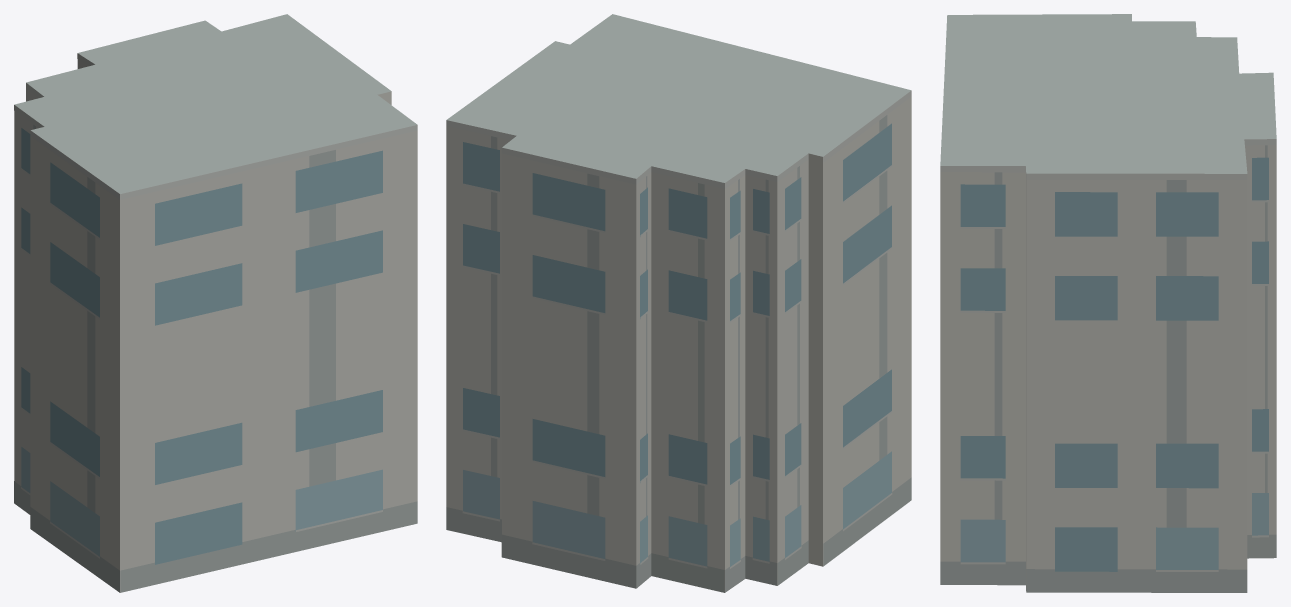
File: survey-upis-32805918.glb
The picture shows the model from 3 angles, left to right: view 1: azimuth 30°, elevation 25°; view 2: azimuth 150°, elevation 25°; view 3: azimuth 270°, elevation 25°; orthographic projection. The views are drawn at different scales.
Parts seen in each view (by area): view 1: survey-upis-32805918.tmp; view 2: survey-upis-32805918.tmp; view 3: survey-upis-32805918.tmp.
Boxes of the visible parts, <box> form: survey-upis-32805918.tmp: <box>14,14,417,592</box>; survey-upis-32805918.tmp: <box>446,14,911,592</box>; survey-upis-32805918.tmp: <box>940,14,1276,592</box>.
Bounding box in the file's own units: 13.57 × 16.57 × 12.07.
